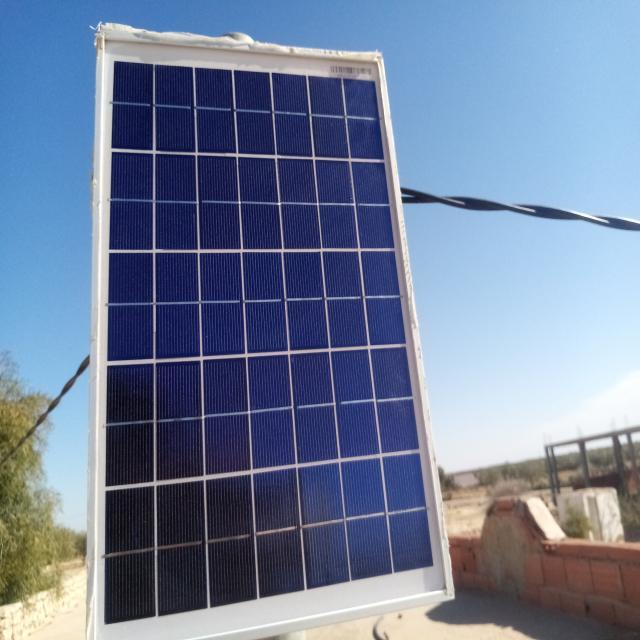no faulty: (92, 31, 452, 640)
